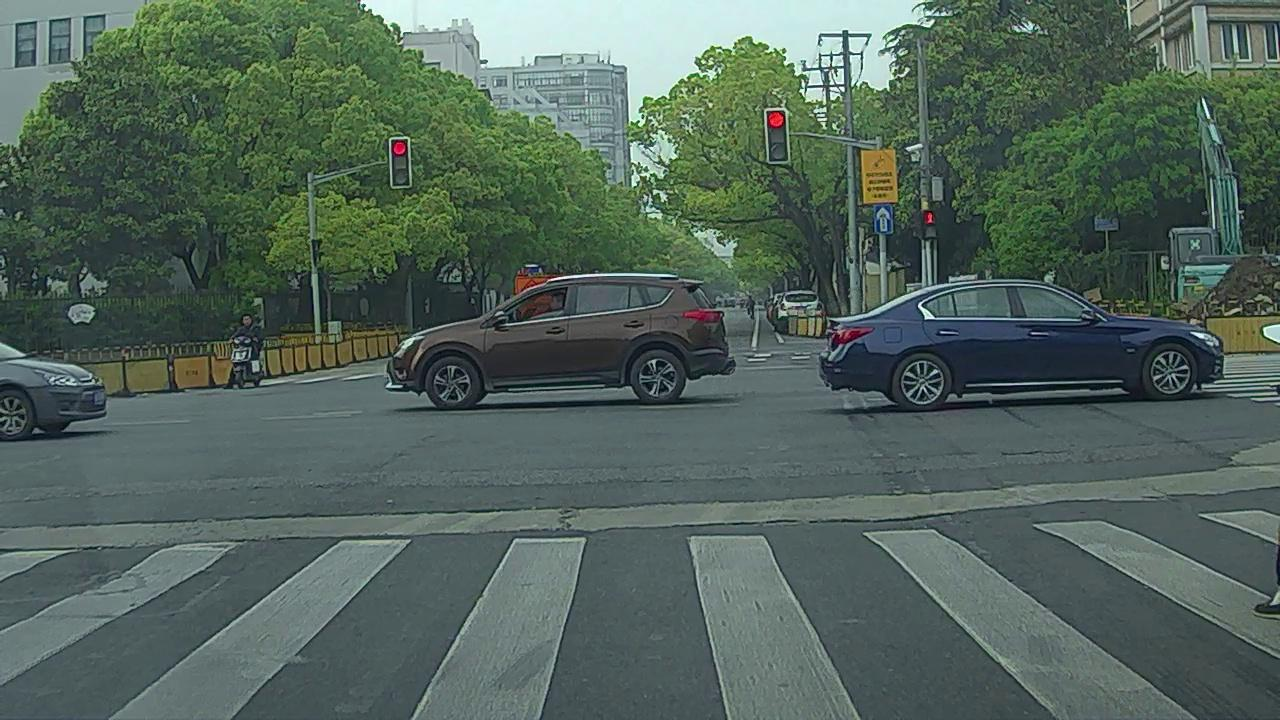traffic_light: (768, 111, 788, 162), (392, 137, 410, 186)
